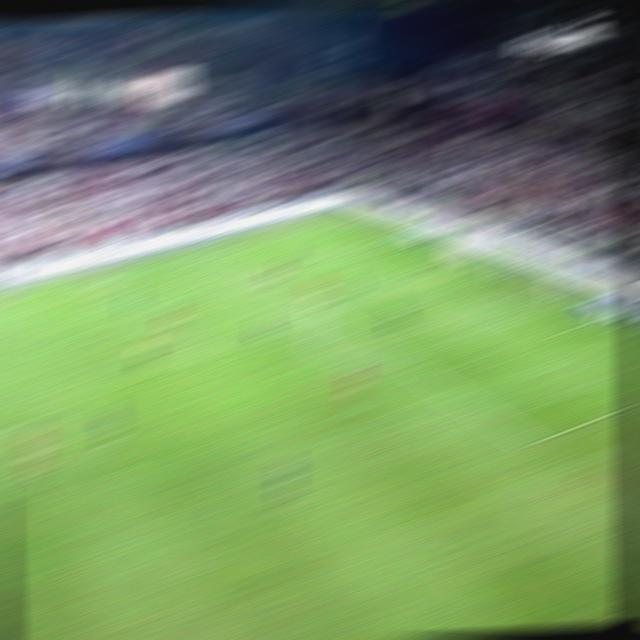bigarea_bottom_inner: (519, 434, 546, 451)
bigarea_top_inner: (255, 270, 280, 280)
bigarea_top_outter: (383, 233, 405, 238)
bottom_arc_area_intersection: (401, 362, 425, 373)
corner: (329, 210, 350, 211)
smallarea_bottom_inner: (536, 329, 559, 339)
smallarea_bottom_outter: (591, 314, 612, 319)
smallarea_top_inner: (404, 270, 426, 277)
smallarea_top_outter: (446, 257, 466, 261)
top_arc_area_intersection: (311, 305, 333, 314)
